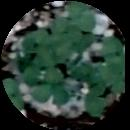Basil: (24, 65, 65, 86), (98, 65, 127, 89), (33, 86, 66, 107), (24, 34, 50, 57), (54, 21, 72, 54), (3, 79, 22, 110), (80, 14, 95, 49), (105, 38, 121, 61), (88, 93, 101, 116)
